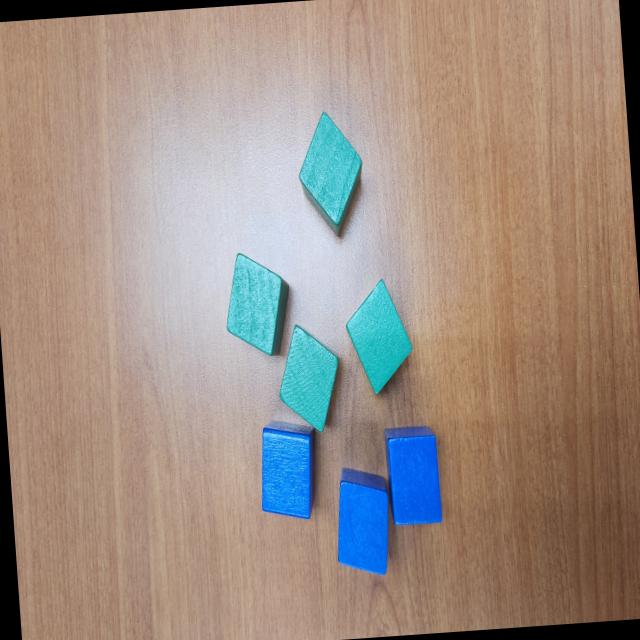blue: (330, 462, 394, 578), (256, 415, 320, 522), (382, 424, 443, 527)
green: (294, 108, 368, 240), (342, 277, 416, 396), (274, 320, 345, 435), (220, 250, 294, 360)
